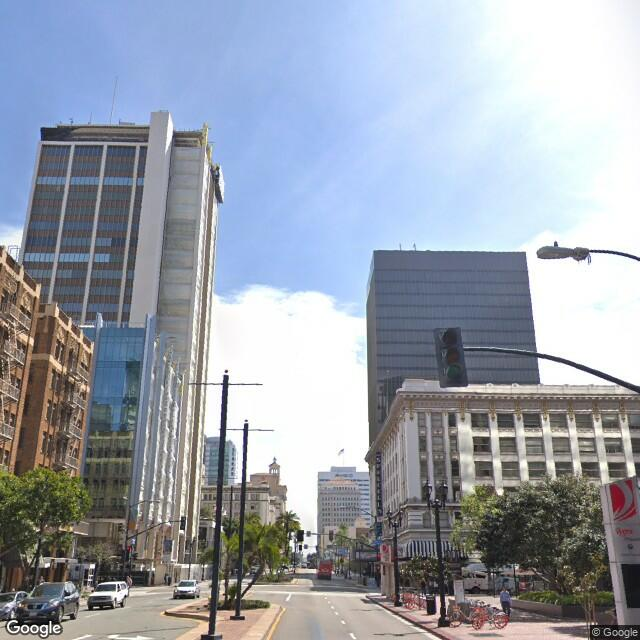light: (536, 240, 588, 264)
window: (525, 435, 548, 455), (498, 435, 517, 456)
